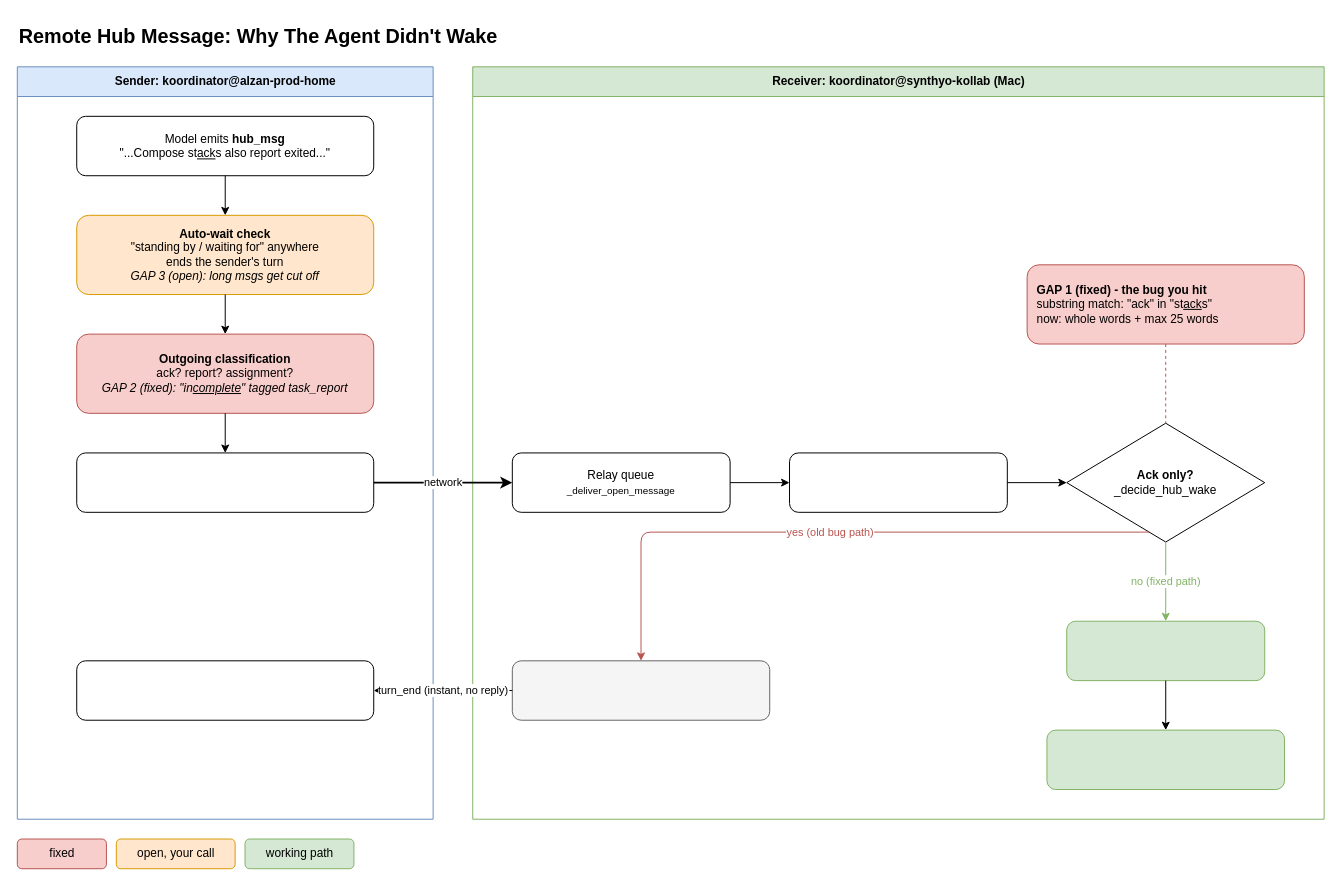
This 1341x886 diagram has some shape labels left out. The box of each missing label's shape, as (x1, y1, x2, y2) in pixels:
Display box + inject _on_message_received: (789, 452, 1007, 512)
Model turn runs, replies via hub_msg, then turn_end: (1046, 729, 1285, 790)
observe message shown, model never runs turn_end sent at once: (511, 660, 770, 720)
Relay send (open trust) relay_agent._rpc_send: (76, 452, 374, 512)
Waits on the thread for the receiver's turn_end frame: (76, 660, 374, 720)
wake TRIGGER_LLM_CONTINUE: (1066, 620, 1265, 681)
